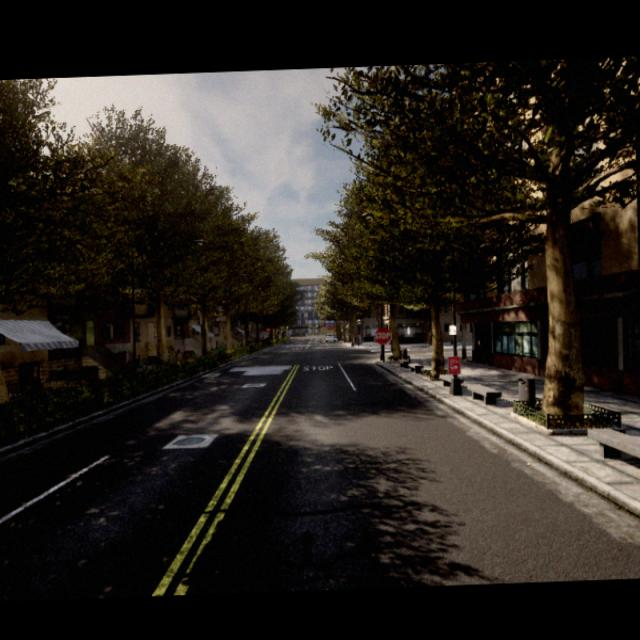stop sign: (371, 321, 394, 362), (372, 326, 393, 344)
